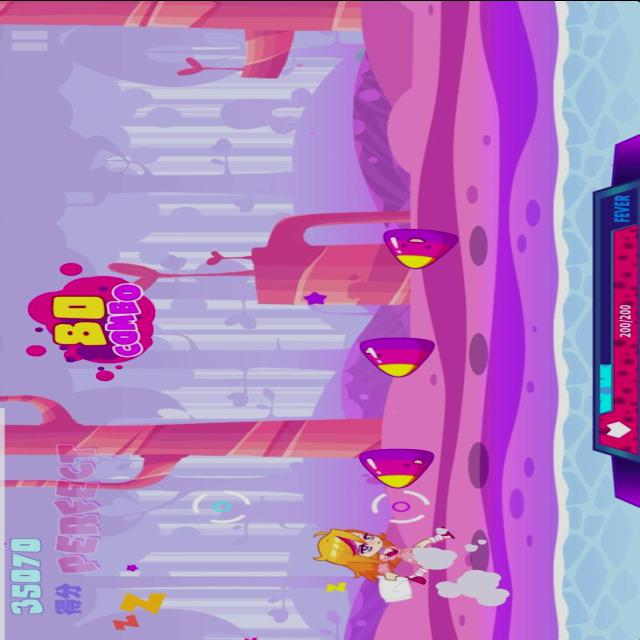jian: (376, 225, 466, 271), (354, 333, 444, 378), (352, 444, 442, 488)
